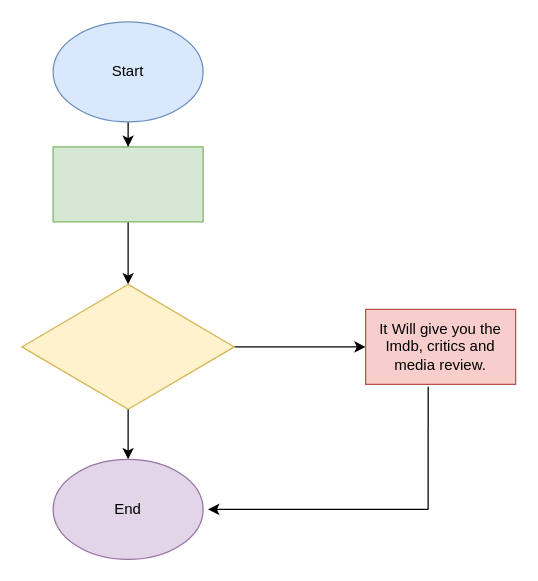
Image size: 538x581. Some labels were removed from this diagram. Each missing label, with the box of its shape:
Give your Movie name and languge.: (21, 283, 234, 409)
Login: (52, 146, 203, 222)
